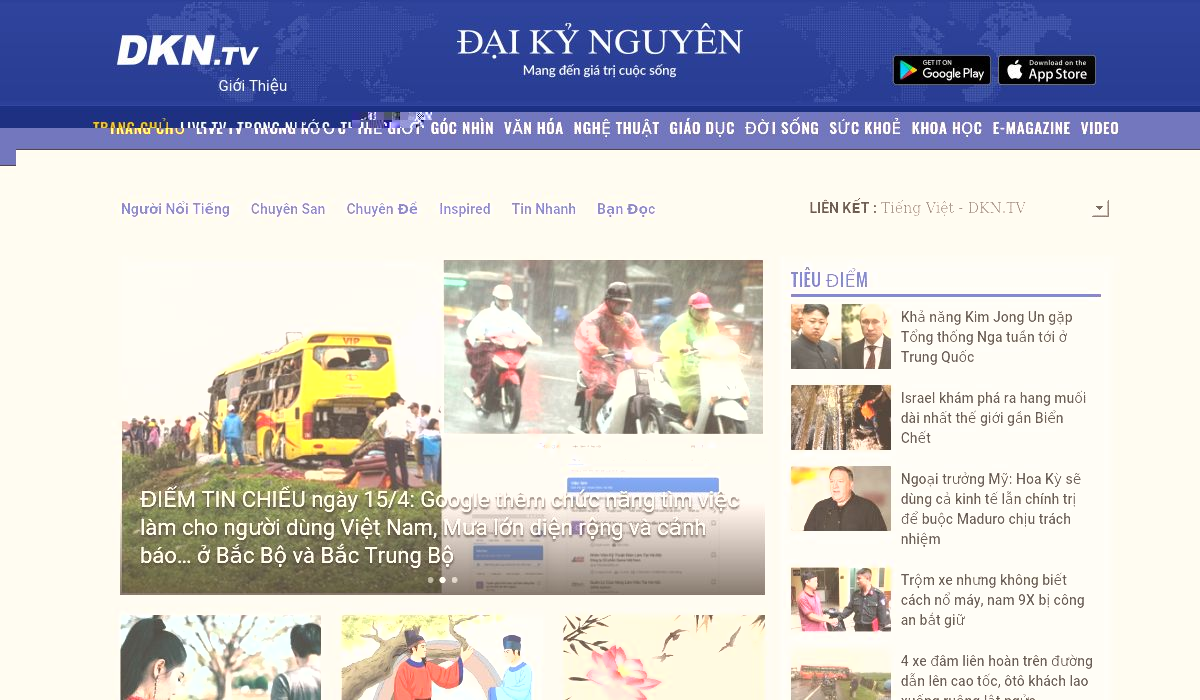menu: (2, 106, 1199, 149)
menu-button: (235, 111, 333, 143), (556, 113, 646, 143), (89, 112, 171, 141), (728, 116, 809, 143), (812, 115, 888, 142), (414, 113, 484, 142), (975, 116, 1060, 139), (487, 114, 550, 144), (338, 113, 407, 140), (894, 116, 970, 140), (652, 116, 723, 141), (178, 111, 229, 141), (1062, 116, 1107, 139)
